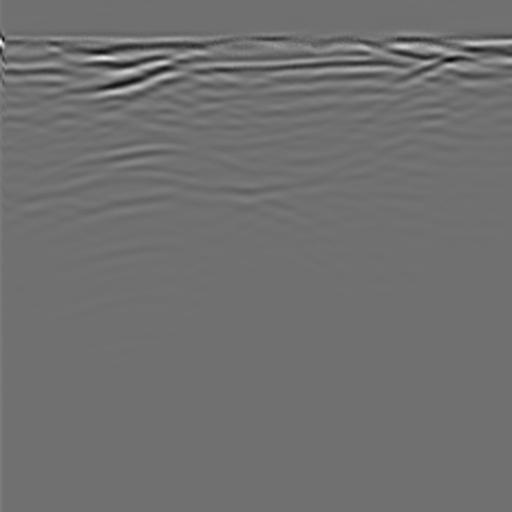hyperbola: (30, 130, 287, 248)
